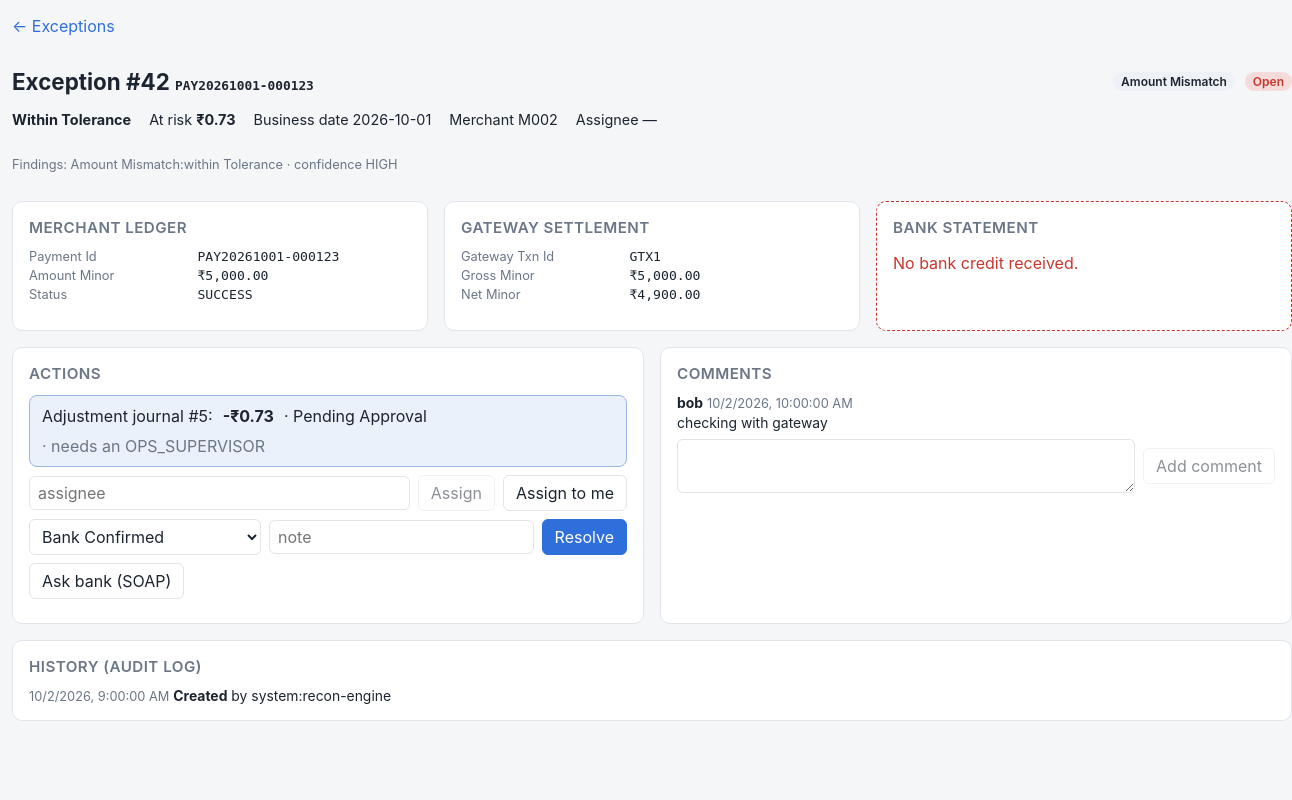
Scenario: ExceptionDetailPage › asks the bank over SOAP and shows the answer
The width and height of the screenshot is (1292, 800).
Click the button "Ask bank (SOAP)" at (107, 581), box [29, 563, 184, 599]
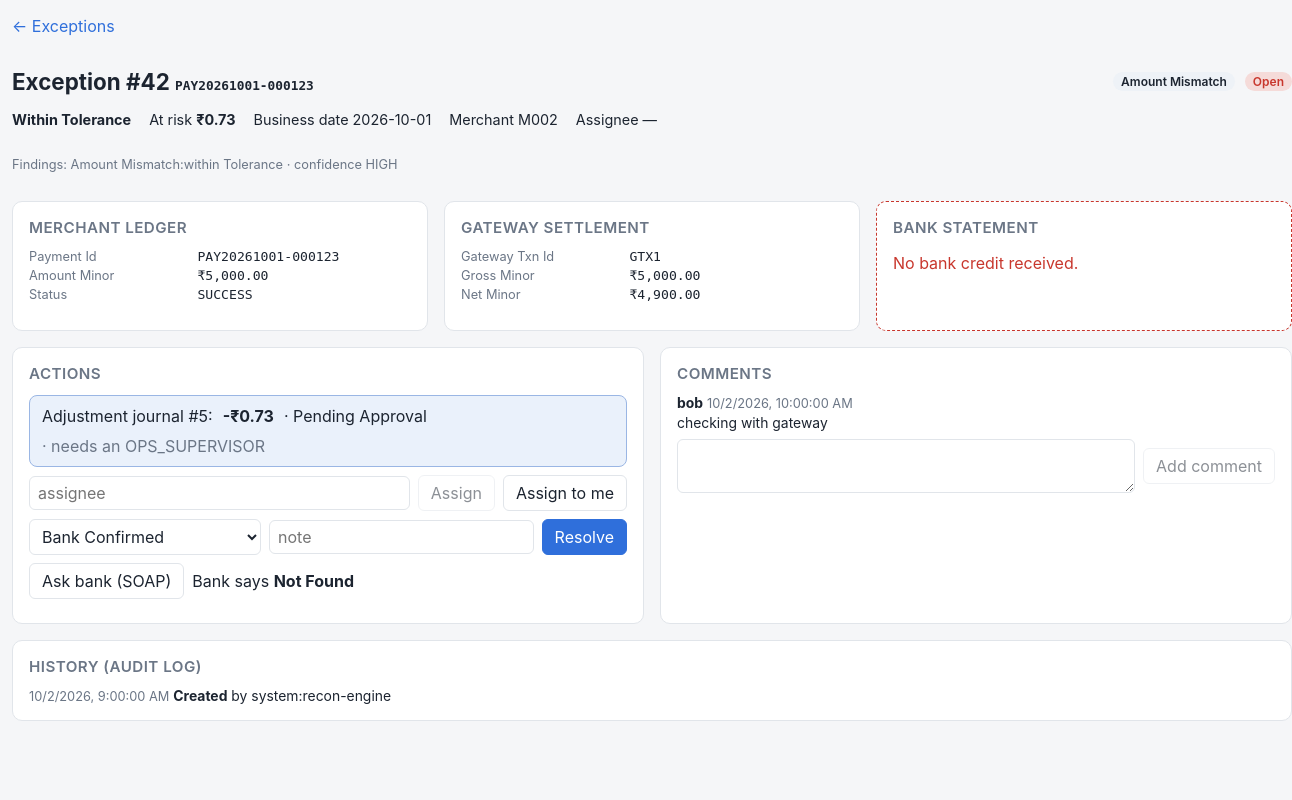
Check: the element with test id "bank-status" reads "Bank says Not Found", box [192, 571, 354, 591]
